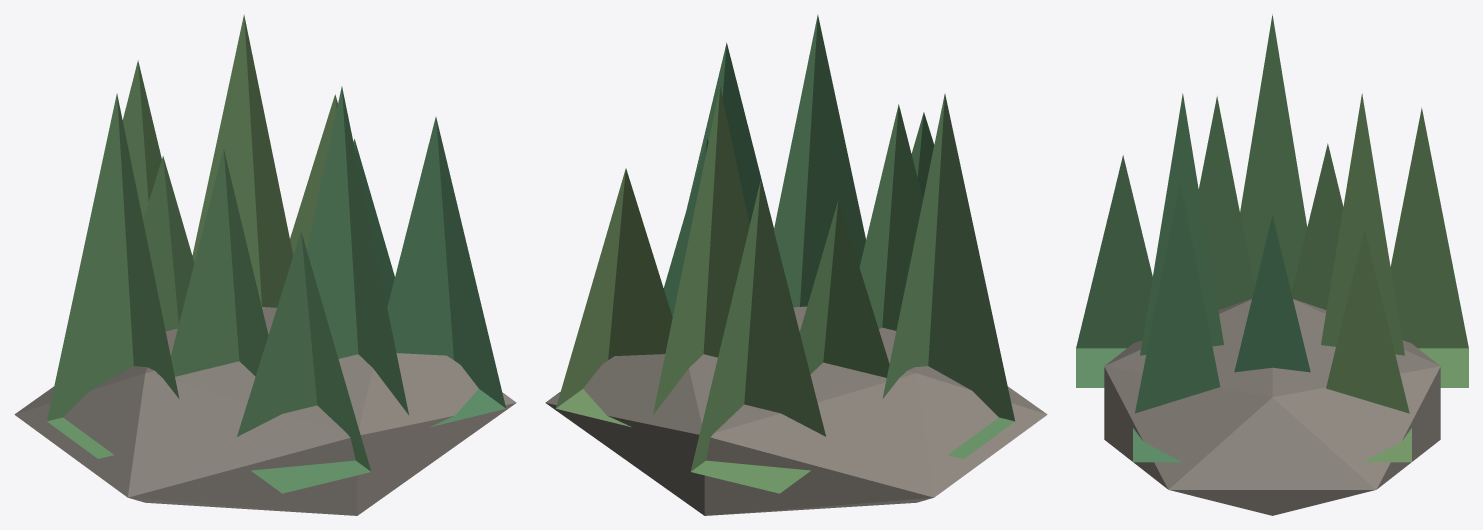
The model's file is hedgehog-marker.glb.
3 renders of one model, left to right at view 1: azimuth 30°, elevation 25°; view 2: azimuth 150°, elevation 25°; view 3: azimuth 270°, elevation 25°, orthographic. The views are drawn at different scales.
Parts seen in each view (by area): view 1: world; view 2: world; view 3: world.
Boxes of the visible parts, box(x1,y1,x2,y2) form: world: box(14, 14, 516, 515); world: box(545, 14, 1047, 515); world: box(1076, 14, 1468, 515).
Size of the model in its own units: 0.786 by 0.805 by 0.7506.
